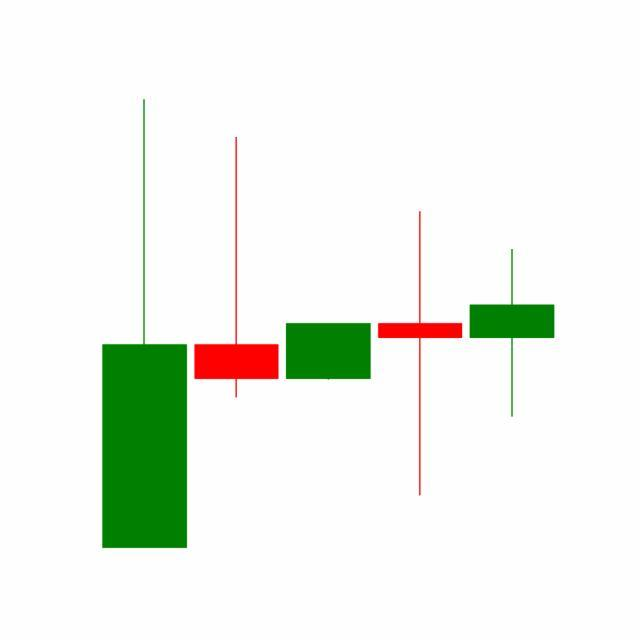Spinning Top: (466, 247, 559, 419)
